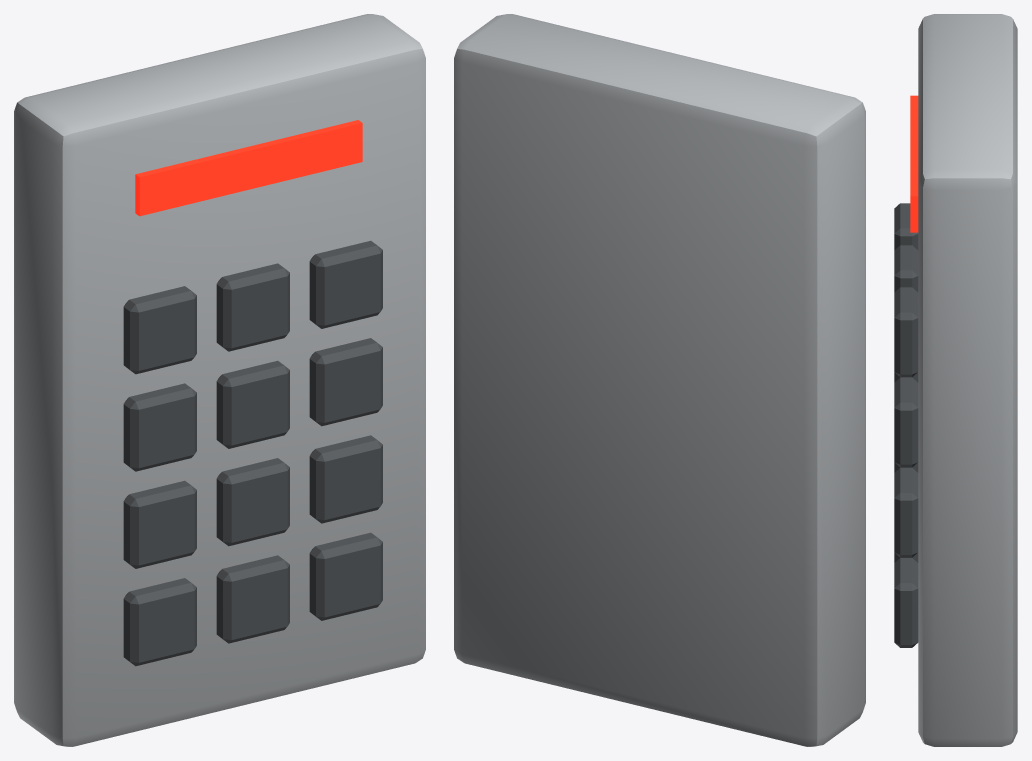
The model's file is keypad.glb.
3 views of the same model, side by side, from view 1: azimuth 30°, elevation 25°; view 2: azimuth 150°, elevation 25°; view 3: azimuth 270°, elevation 25° (orthographic). The views are drawn at different scales.
Visible parts, largest first — view 1: keypad; view 2: keypad; view 3: keypad.
Part boxes in pixels (x1,y1,x2,y2): keypad: [14, 14, 425, 746]; keypad: [454, 14, 865, 746]; keypad: [894, 14, 1017, 746].
Size of the model in its own units: 0.1 by 0.16 by 0.031.
